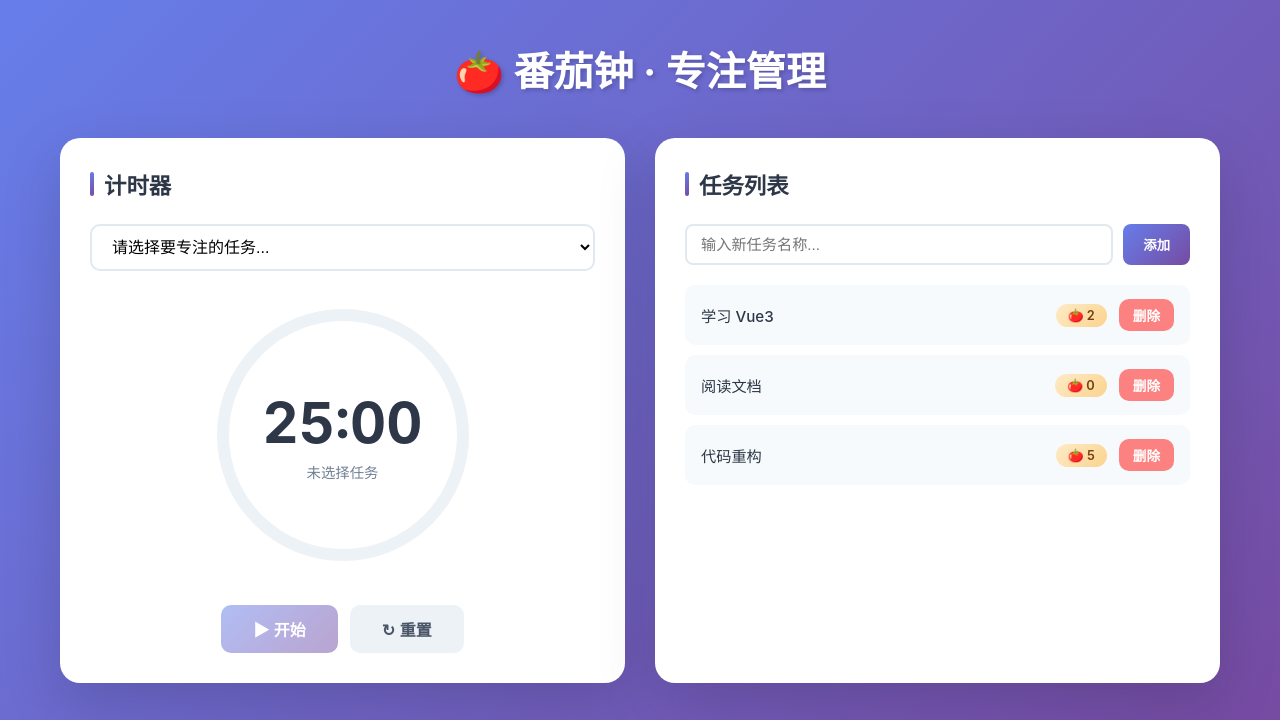
Test: App.vue › 任务选择与计时器锁定 › 计时期间任务下拉框应被禁用
Select "学习 Vue3（已完成 2 个番茄）" in the dropdown with class "task-select" at (342, 248), box [90,224,595,271]
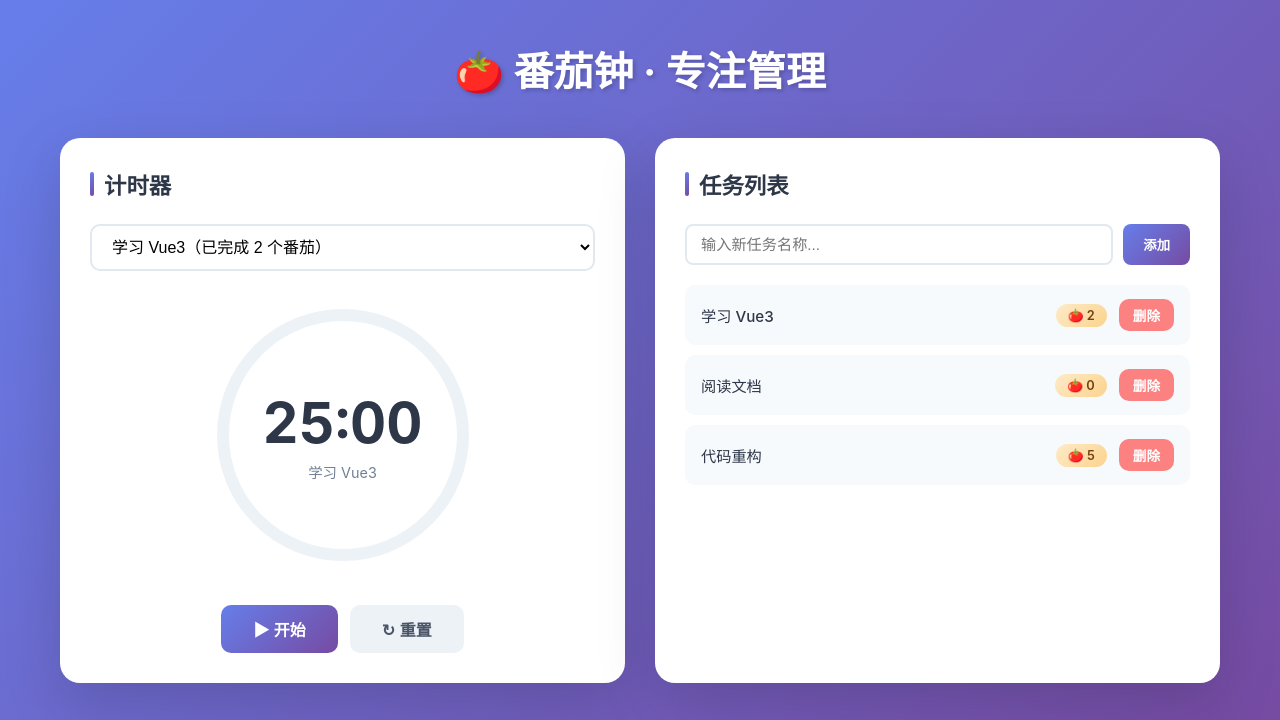
Click the button "▶ 开始" at (280, 629), box [221,605,338,653]
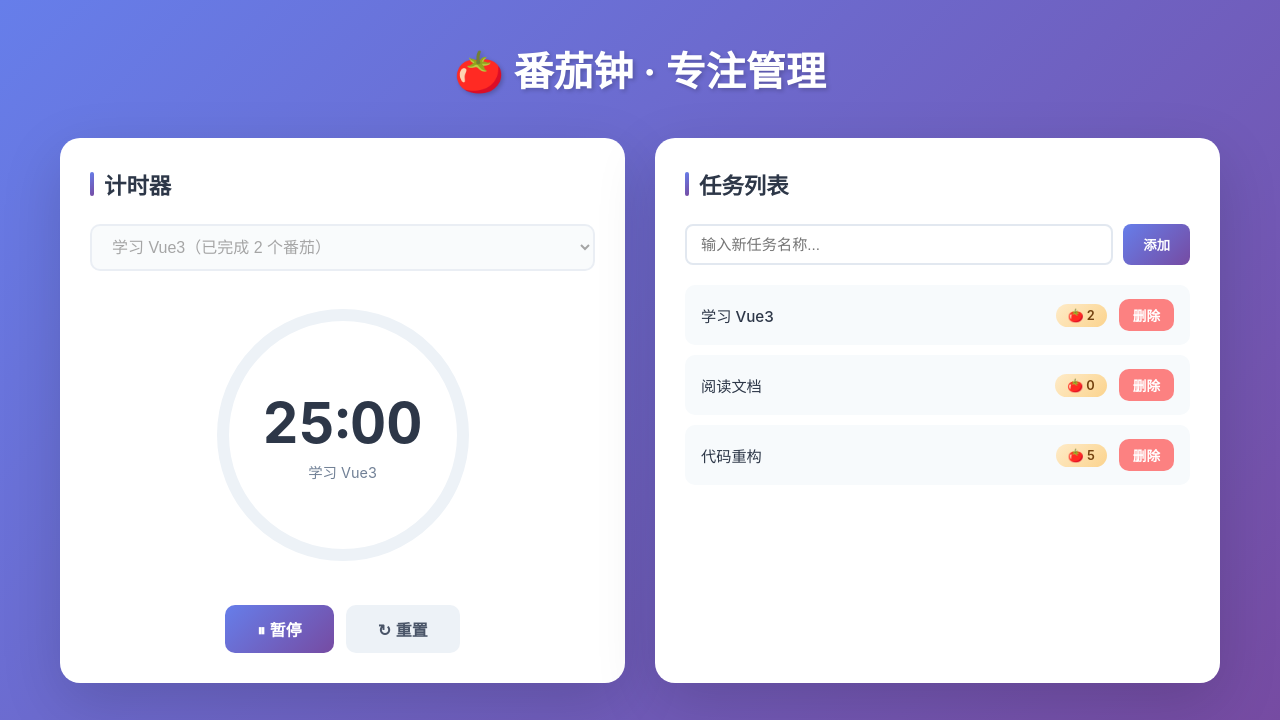
Now the dropdown with class "task-select" is disabled, box [90,224,595,271]
